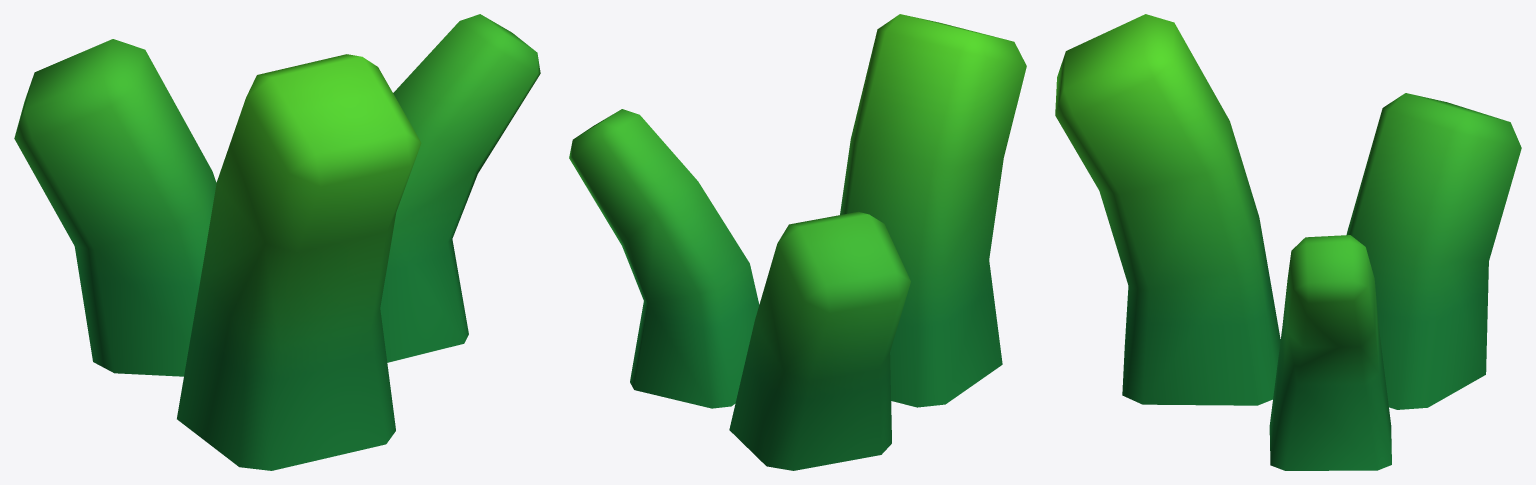
The model's file is Grass_2_1.obj.
3 views of the same model, side by side, from view 1: azimuth 30°, elevation 25°; view 2: azimuth 150°, elevation 25°; view 3: azimuth 270°, elevation 25° (orthographic). The views are drawn at different scales.
Parts seen in each view (by area): view 1: Grass_2_1; view 2: Grass_2_1; view 3: Grass_2_1.
Boxes of the visible parts, x1,y1,x2,y2 form: Grass_2_1: (14,14,540,470); Grass_2_1: (569,14,1026,470); Grass_2_1: (1055,14,1521,470).
Bounding box in the file's own units: 0.2267 × 0.1858 × 0.2324.
